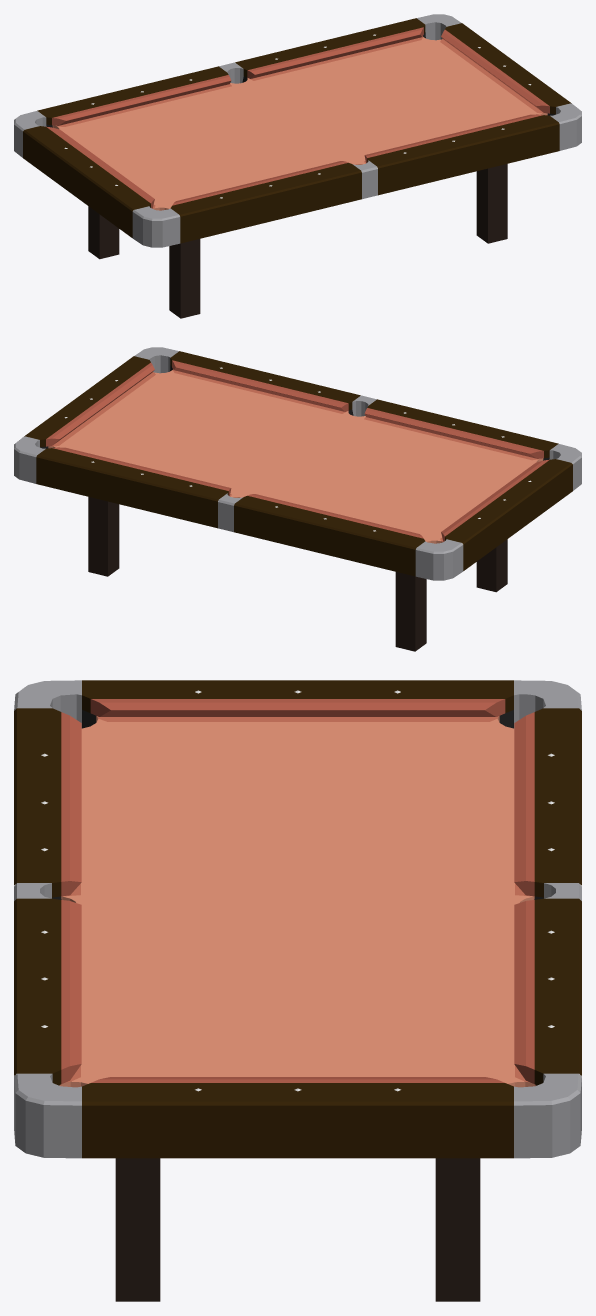
3 renders of one model, top to bottom at view 1: azimuth 30°, elevation 25°; view 2: azimuth 150°, elevation 25°; view 3: azimuth 270°, elevation 25°, orthographic. The views are drawn at different scales.
Parts seen in each view (by area): view 1: upstream-cloth, upstream-wood, upstream-CushionBlue, support-leg (×3), upstream-Material.001, upstream-clothshade; view 2: upstream-cloth, upstream-wood, upstream-CushionBlue, support-leg (×3), upstream-Material.001, upstream-clothshade; view 3: upstream-cloth, upstream-wood, upstream-CushionBlue, upstream-Material.001, support-leg (×2), upstream-clothshade.
Boxes of the visible parts, x1,y1,x2,y2 form: upstream-cloth: (52, 37, 547, 210); upstream-wood: (23, 18, 571, 243); upstream-CushionBlue: (46, 27, 549, 208); support-leg (×3): (88, 164, 507, 318); upstream-Material.001: (14, 14, 581, 247); upstream-clothshade: (56, 36, 545, 208); upstream-cloth: (48, 370, 543, 543); upstream-wood: (24, 351, 572, 576); upstream-CushionBlue: (46, 360, 549, 541); support-leg (×3): (88, 497, 507, 651); upstream-Material.001: (14, 347, 581, 580); upstream-clothshade: (50, 369, 539, 541); upstream-cloth: (59, 716, 536, 1087); upstream-wood: (14, 680, 581, 1158); upstream-CushionBlue: (61, 699, 534, 1083); upstream-Material.001: (14, 680, 581, 1158); support-leg (×2): (115, 1158, 480, 1301); upstream-clothshade: (61, 716, 534, 1082).
Bounding box in the file's own units: 2.69 × 0.7539 × 1.53.
